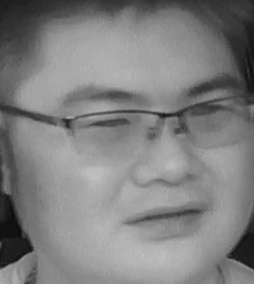eye: (82, 114, 130, 131), (187, 100, 224, 119)
glass: (71, 104, 166, 161), (181, 93, 253, 148)
mouth: (115, 194, 205, 238)
